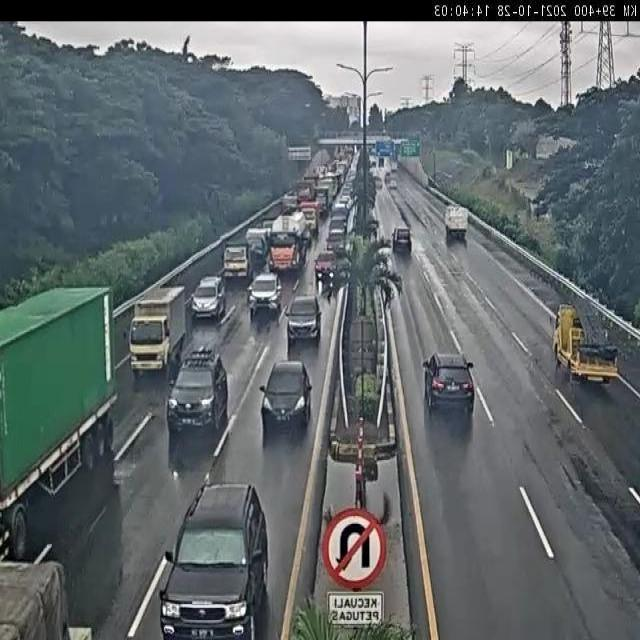Car: (165, 343, 228, 437), (421, 351, 475, 422), (246, 270, 284, 318), (392, 226, 412, 254)
Truck: (0, 288, 119, 570), (159, 481, 269, 636), (125, 284, 187, 382), (552, 302, 621, 384), (258, 358, 312, 440), (346, 470, 391, 528), (270, 212, 310, 272), (334, 274, 355, 379), (285, 294, 322, 347), (190, 276, 227, 322), (245, 227, 273, 273), (222, 244, 251, 284), (298, 200, 322, 239), (444, 206, 468, 243), (528, 282, 558, 311), (314, 177, 337, 214), (314, 251, 337, 285), (338, 176, 358, 214), (383, 268, 402, 302), (326, 222, 346, 253), (344, 200, 358, 243), (345, 151, 361, 187), (374, 437, 397, 458), (413, 158, 428, 188), (372, 259, 389, 285), (319, 271, 333, 302), (331, 160, 348, 185), (361, 457, 378, 482), (527, 199, 546, 220), (268, 200, 286, 222), (325, 170, 342, 193), (296, 179, 313, 202), (282, 192, 300, 213), (336, 262, 350, 289), (316, 138, 350, 148), (366, 200, 378, 228), (357, 199, 370, 224), (305, 170, 319, 192), (375, 246, 391, 264), (318, 128, 340, 140), (340, 254, 352, 276), (446, 159, 465, 172), (383, 288, 393, 312), (368, 218, 378, 241), (327, 160, 339, 177), (323, 506, 334, 524), (379, 235, 392, 250), (261, 220, 276, 232), (437, 170, 455, 180), (373, 135, 392, 144), (584, 160, 601, 170), (505, 149, 513, 170), (349, 113, 359, 129), (392, 138, 406, 149), (369, 165, 378, 182), (392, 143, 400, 161), (536, 152, 552, 161), (215, 234, 226, 247), (427, 174, 438, 187), (218, 264, 226, 280), (344, 146, 354, 158), (369, 155, 378, 168), (573, 317, 583, 328), (368, 144, 377, 156), (374, 177, 382, 189), (389, 178, 397, 189), (314, 166, 322, 177), (391, 161, 397, 173), (385, 172, 391, 183), (378, 158, 384, 167), (382, 127, 387, 136), (354, 146, 358, 157)
